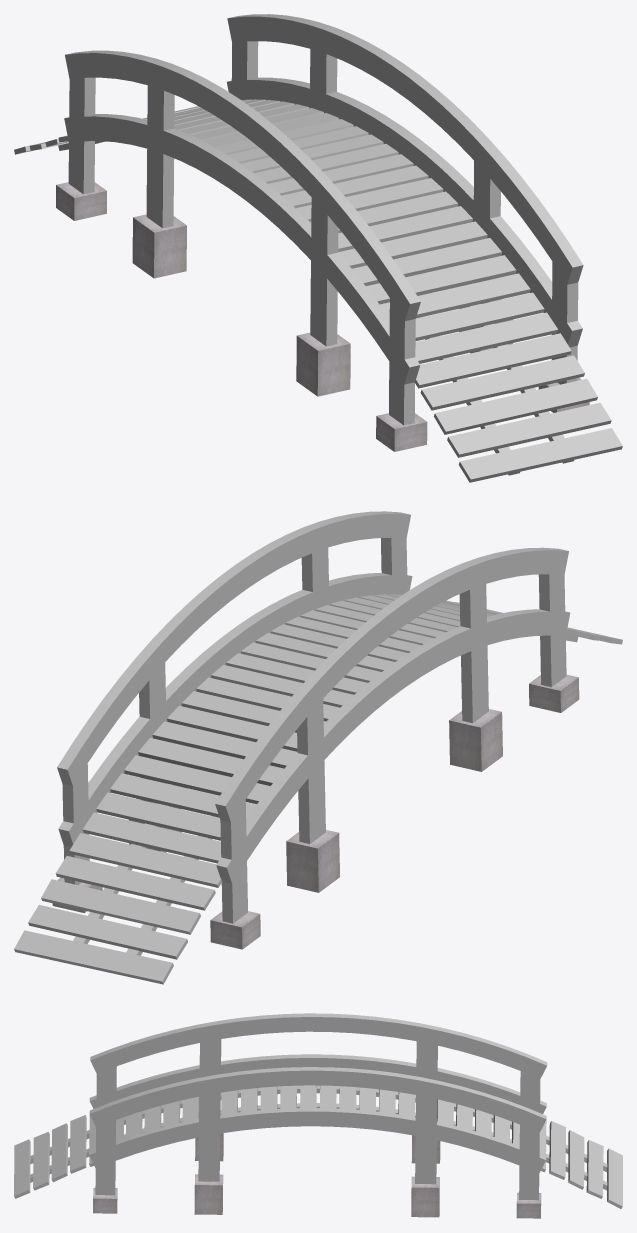
File: puente.obj
3 renders of one model, top to bottom at view 1: azimuth 30°, elevation 25°; view 2: azimuth 150°, elevation 25°; view 3: azimuth 270°, elevation 25°, orthographic. The views are drawn at different scales.
Visible parts, largest first — view 1: bridge12:Box02; view 2: bridge12:Box02; view 3: bridge12:Box02.
Boxes of the visible parts, x1,y1,x2,y2 form: bridge12:Box02: (14,14,622,482); bridge12:Box02: (14,511,622,984); bridge12:Box02: (14,1013,622,1218).
Size of the model in its own units: 4.01 by 4.34 by 16.31.
